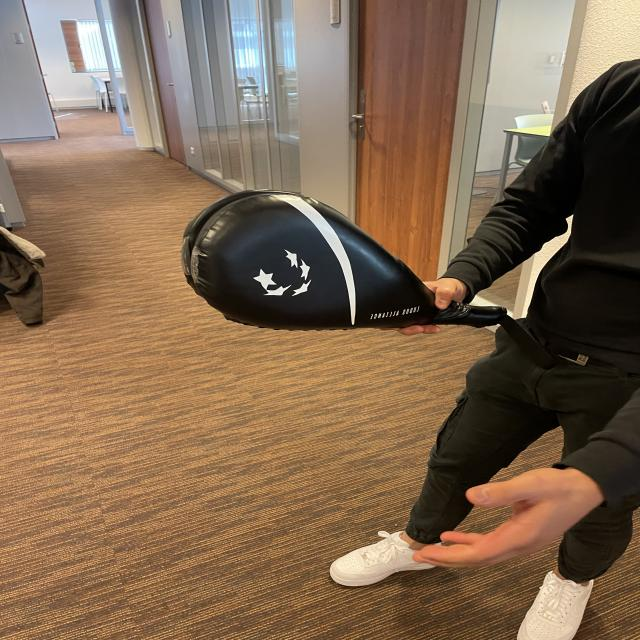paddle: (183, 192, 413, 325)
